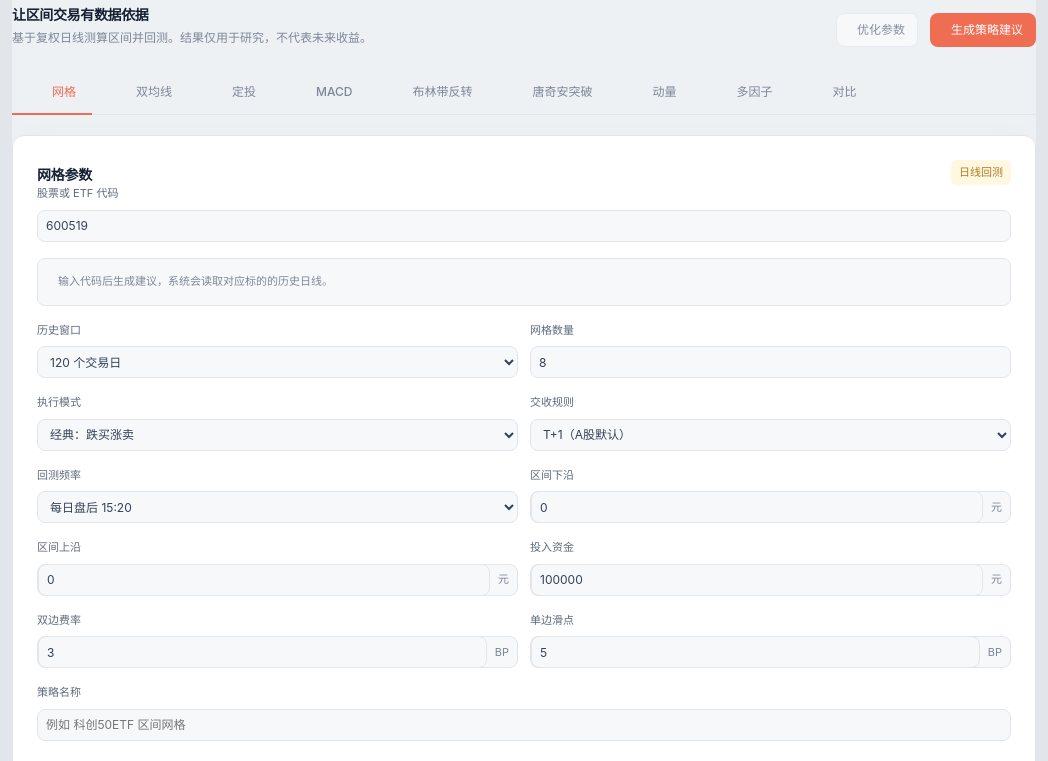
ViewGrid 对比 tab › tab 栏含「对比」且切换后渲染对比区块（8 个策略勾选 + 警示脚注）
The width and height of the screenshot is (1048, 761).
Click the tab "对比" at (833, 93), box left=793, top=71, right=873, bottom=115
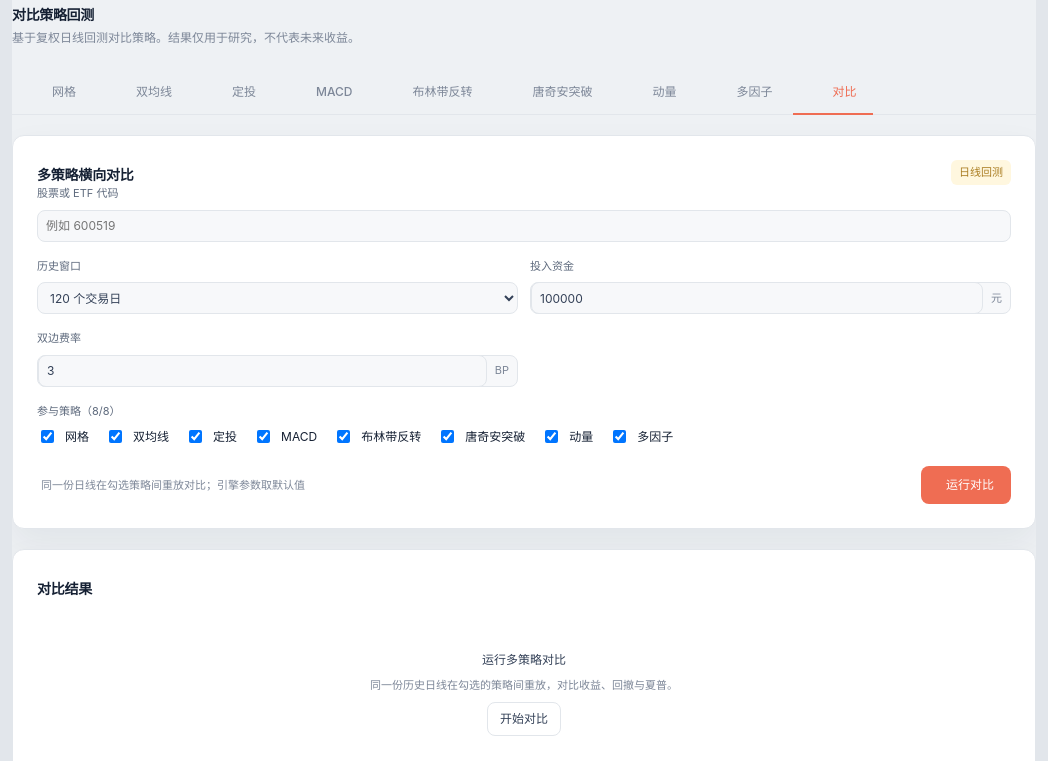
Now the text "多策略横向对比" is shown, box left=37, top=164, right=134, bottom=185
Now the number of labels with class "compare-type-check" is 8
